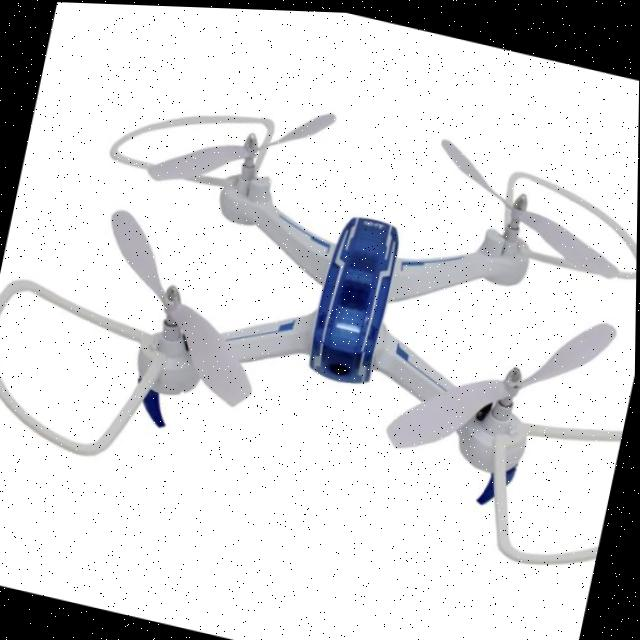drones: (0, 19, 640, 603)
